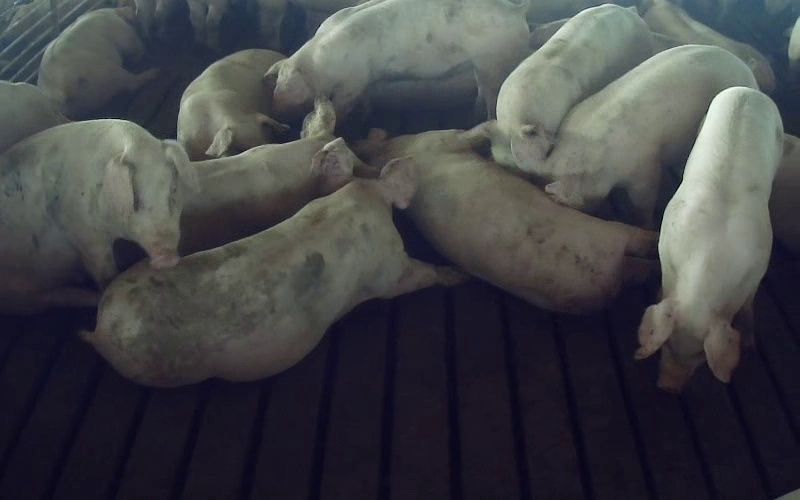pig: (85, 140, 462, 386), (354, 130, 656, 313), (637, 87, 782, 390), (545, 45, 756, 225), (0, 120, 192, 312), (269, 0, 528, 117), (180, 97, 360, 252), (38, 8, 156, 117), (177, 49, 287, 160)
